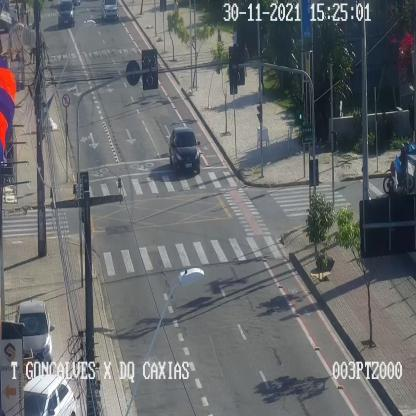car: (15, 299, 54, 364), (24, 374, 76, 415), (170, 126, 200, 177), (57, 1, 75, 24), (103, 0, 120, 21)
motorbike: (382, 141, 414, 195)
